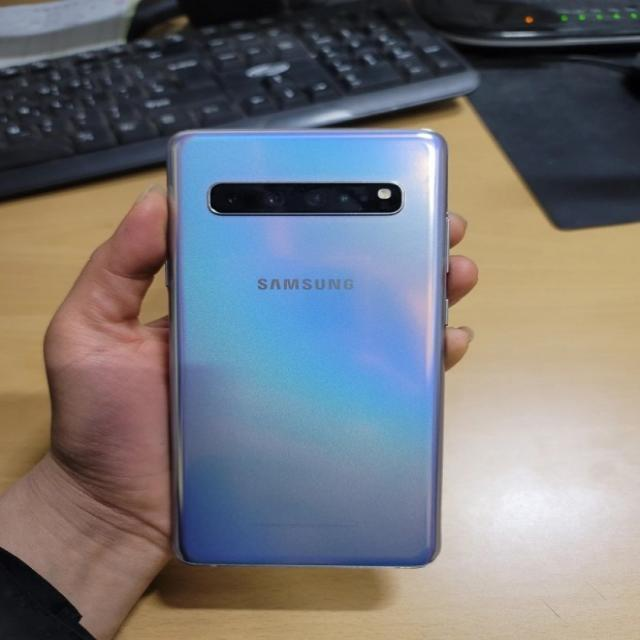phone: (170, 129, 447, 570)
